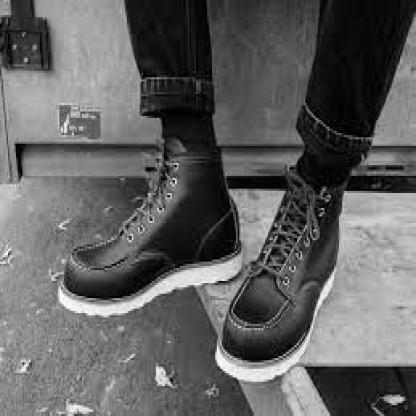ankle: (196, 155, 201, 164), (337, 198, 342, 204)
heel: (329, 277, 335, 284), (211, 254, 215, 259)
left_foot: (217, 183, 345, 385)
pinky: (276, 344, 283, 354), (73, 256, 78, 263)
right_foot: (60, 151, 243, 317)
toe: (88, 273, 95, 284), (227, 329, 233, 340)
